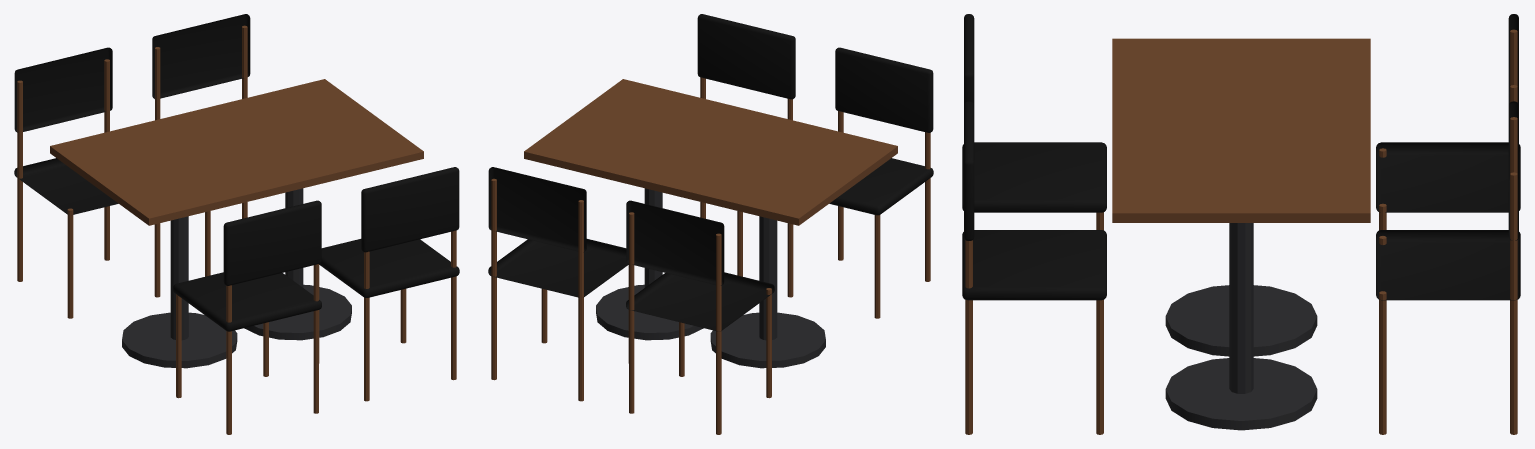
File: hospitality.dining.table_4.glb
3 views of the same model, side by side, from view 1: azimuth 30°, elevation 25°; view 2: azimuth 150°, elevation 25°; view 3: azimuth 270°, elevation 25° (orthographic). The views are drawn at different scales.
Parts seen in each view (by area): view 1: chairs__leather_black, table__hardwood, chairs__hardwood, table__cast_iron; view 2: chairs__leather_black, table__hardwood, chairs__hardwood, table__cast_iron; view 3: table__hardwood, chairs__leather_black, table__cast_iron, chairs__hardwood.
Boxes of the visible parts, x1,y1,x2,y2 form: chairs__leather_black: (14, 14, 459, 331); table__hardwood: (50, 79, 423, 225); chairs__hardwood: (17, 25, 456, 434); table__cast_iron: (122, 188, 351, 368); chairs__leather_black: (488, 14, 933, 331); table__hardwood: (524, 79, 897, 225); chairs__hardwood: (491, 77, 930, 434); table__cast_iron: (596, 188, 825, 368); table__hardwood: (1112, 38, 1370, 222); chairs__leather_black: (962, 14, 1520, 300); table__cast_iron: (1165, 223, 1317, 430); chairs__hardwood: (965, 29, 1517, 434).
Size of the model in its own units: 1.2 by 0.88 by 1.62.
